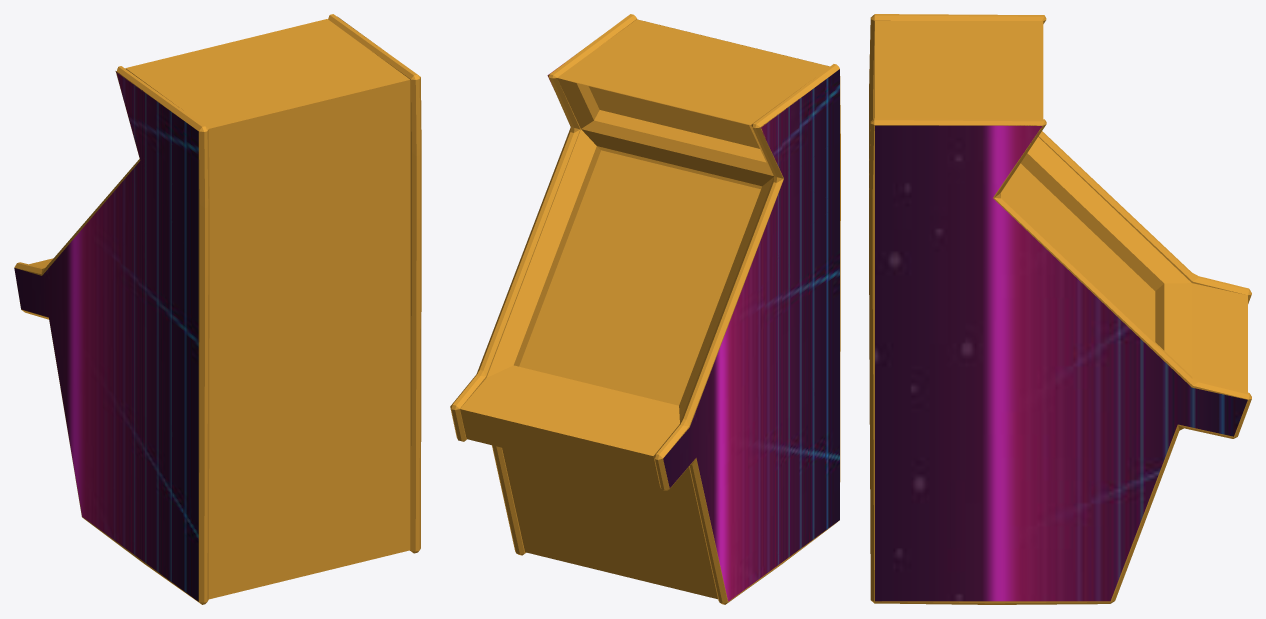
3 views of the same model, side by side, from view 1: azimuth 30°, elevation 25°; view 2: azimuth 150°, elevation 25°; view 3: azimuth 270°, elevation 25° (orthographic). The views are drawn at different scales.
Parts seen in each view (by area): view 1: Cube; view 2: Cube; view 3: Cube.
Part boxes in pixels (left/top/right/bottom): Cube: left=14, top=14, right=421, bottom=604; Cube: left=450, top=14, right=840, bottom=604; Cube: left=869, top=14, right=1251, bottom=604.
Bounding box in the file's own units: 2.2 × 4.54 × 3.25.
Materials: 2 (1 with a texture image).
